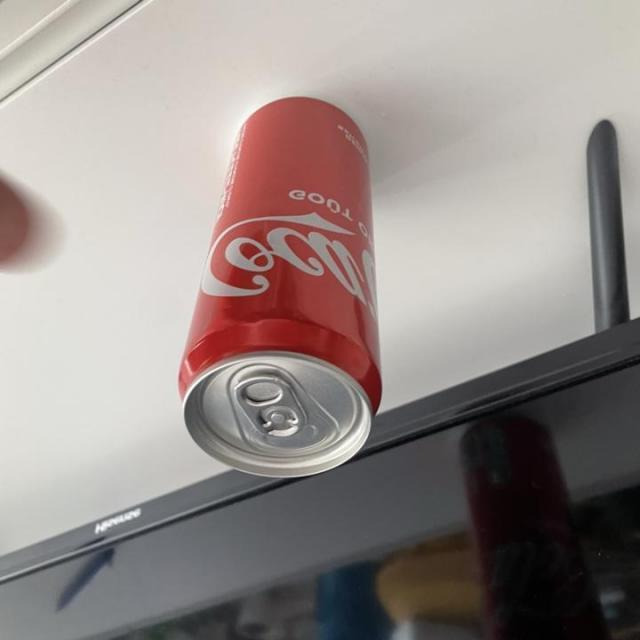can: (131, 70, 441, 522)
